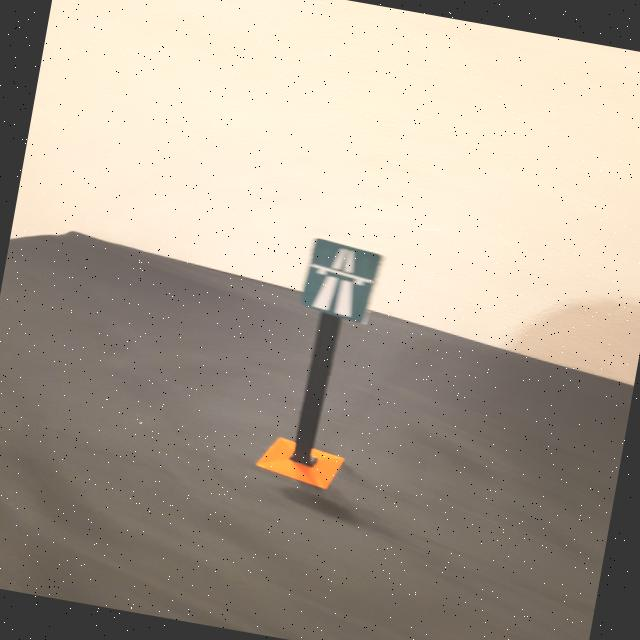highway_entrance: (297, 236, 382, 326)
